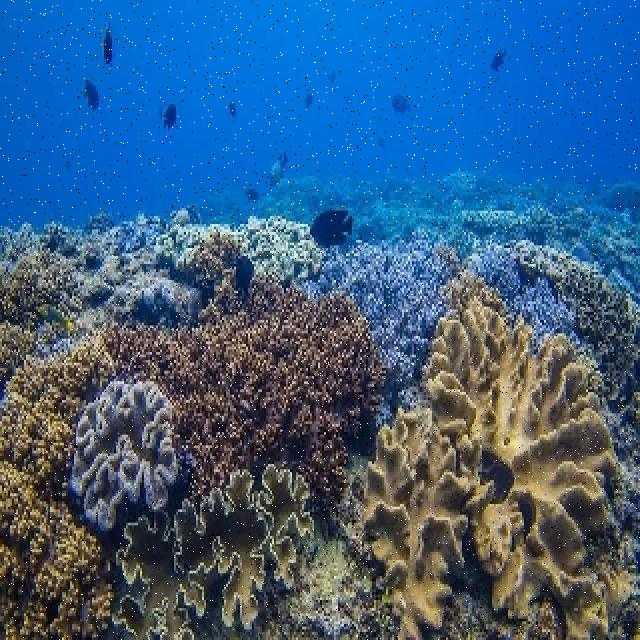fish: (308, 209, 352, 249)
reefs: (361, 270, 633, 637), (113, 464, 313, 637), (72, 380, 177, 530)
